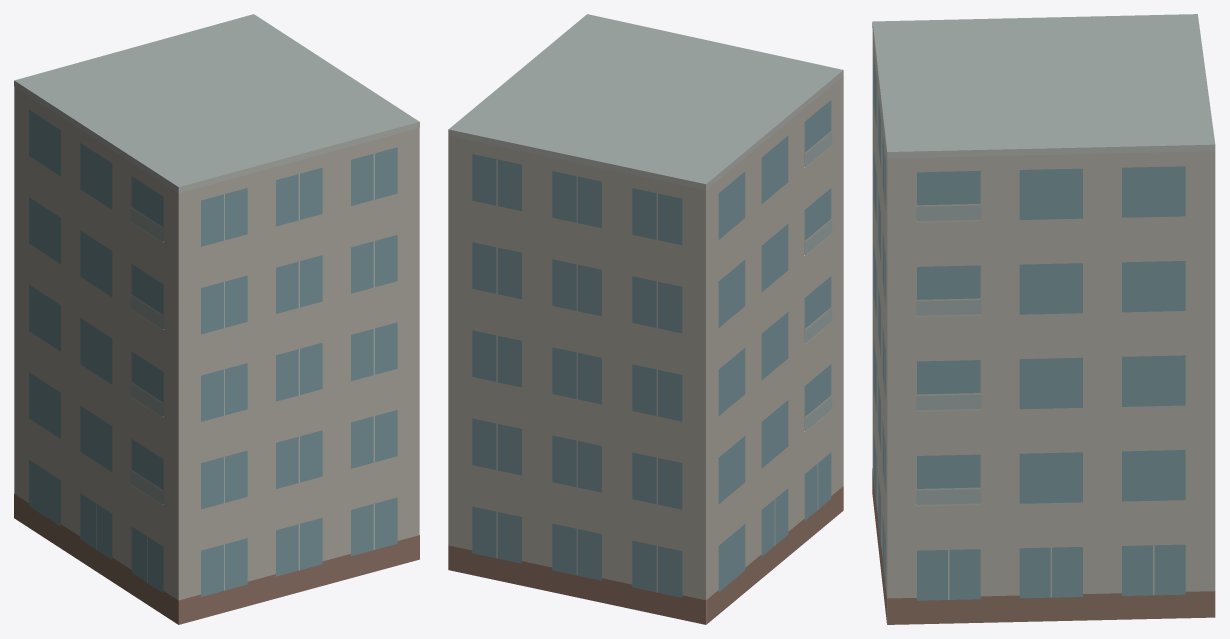
Rendered from survey-upis-33045692.glb.
3 renders of one model, left to right at view 1: azimuth 30°, elevation 25°; view 2: azimuth 150°, elevation 25°; view 3: azimuth 270°, elevation 25°, orthographic. The views are drawn at different scales.
Visible parts, largest first — view 1: survey-upis-33045692.tmp; view 2: survey-upis-33045692.tmp; view 3: survey-upis-33045692.tmp.
Part boxes in pixels (<box>): survey-upis-33045692.tmp: <box>14,14,419,624</box>; survey-upis-33045692.tmp: <box>448,14,843,624</box>; survey-upis-33045692.tmp: <box>872,14,1215,624</box>.
Size of the model in its own units: 11.09 by 17.7 by 11.64.
